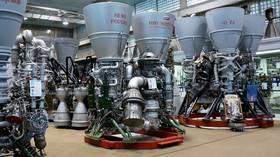thruster: (81, 1, 134, 58), (132, 10, 177, 61), (209, 7, 247, 54), (170, 16, 208, 59), (0, 0, 29, 49), (238, 14, 266, 52), (53, 37, 78, 67), (70, 101, 91, 129), (53, 100, 71, 128), (263, 22, 280, 38)
